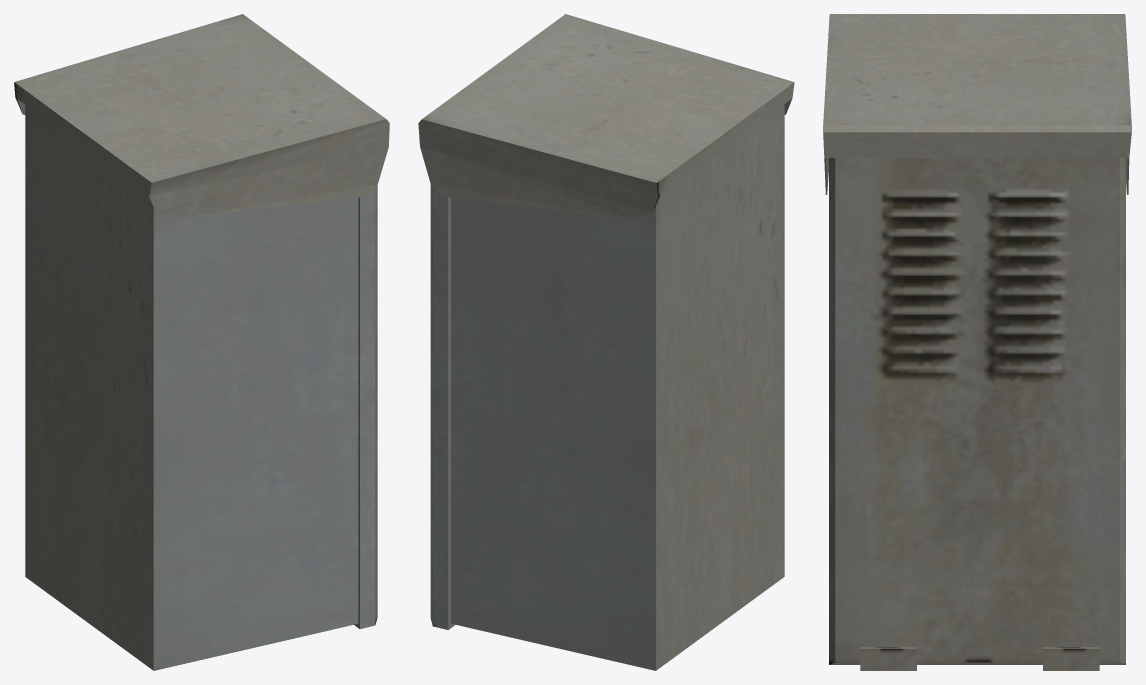
File: powerbox02a.glb
3 renders of one model, left to right at view 1: azimuth 30°, elevation 25°; view 2: azimuth 150°, elevation 25°; view 3: azimuth 270°, elevation 25°, orthographic. The views are drawn at different scales.
Visible parts, largest first — view 1: powerbox02a; view 2: powerbox02a; view 3: powerbox02a.
Part boxes in pixels (left/top/right/bottom): powerbox02a: left=14, top=14, right=389, bottom=670; powerbox02a: left=418, top=14, right=794, bottom=670; powerbox02a: left=823, top=14, right=1131, bottom=670.
Size of the model in its own units: 0.2104 by 0.4347 by 0.2228.
Materials: 1 (1 with a texture image).
